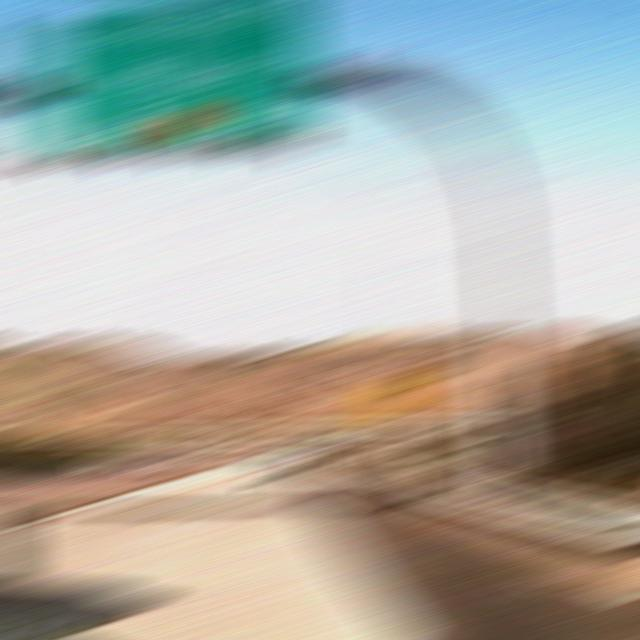speedLimit50: (367, 377, 417, 415)
